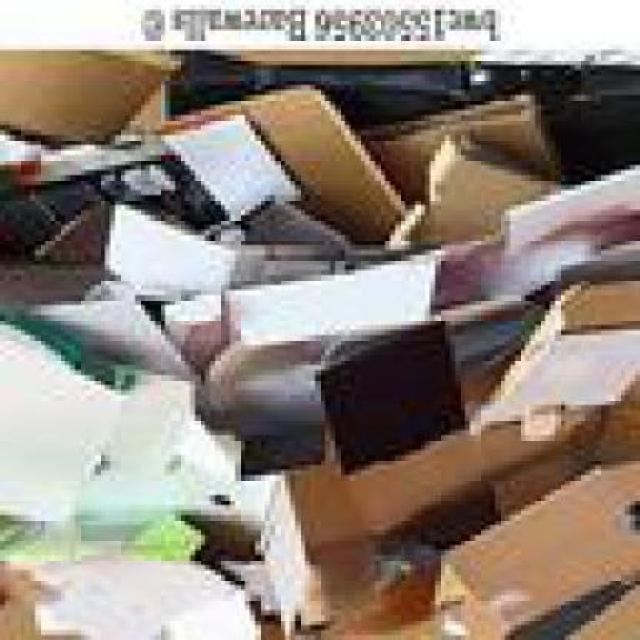CARDBOARD: (4, 60, 638, 638), (170, 180, 638, 452), (4, 320, 284, 575), (5, 90, 410, 265), (200, 306, 529, 486), (270, 460, 596, 638), (290, 414, 610, 566), (6, 200, 346, 300), (438, 470, 638, 638), (5, 524, 266, 638), (470, 279, 638, 446), (370, 100, 565, 225), (175, 60, 470, 140), (4, 269, 204, 380), (470, 59, 638, 186), (325, 335, 470, 480), (390, 145, 565, 260), (5, 60, 190, 160), (264, 564, 442, 638), (160, 306, 235, 366), (604, 404, 638, 470)
